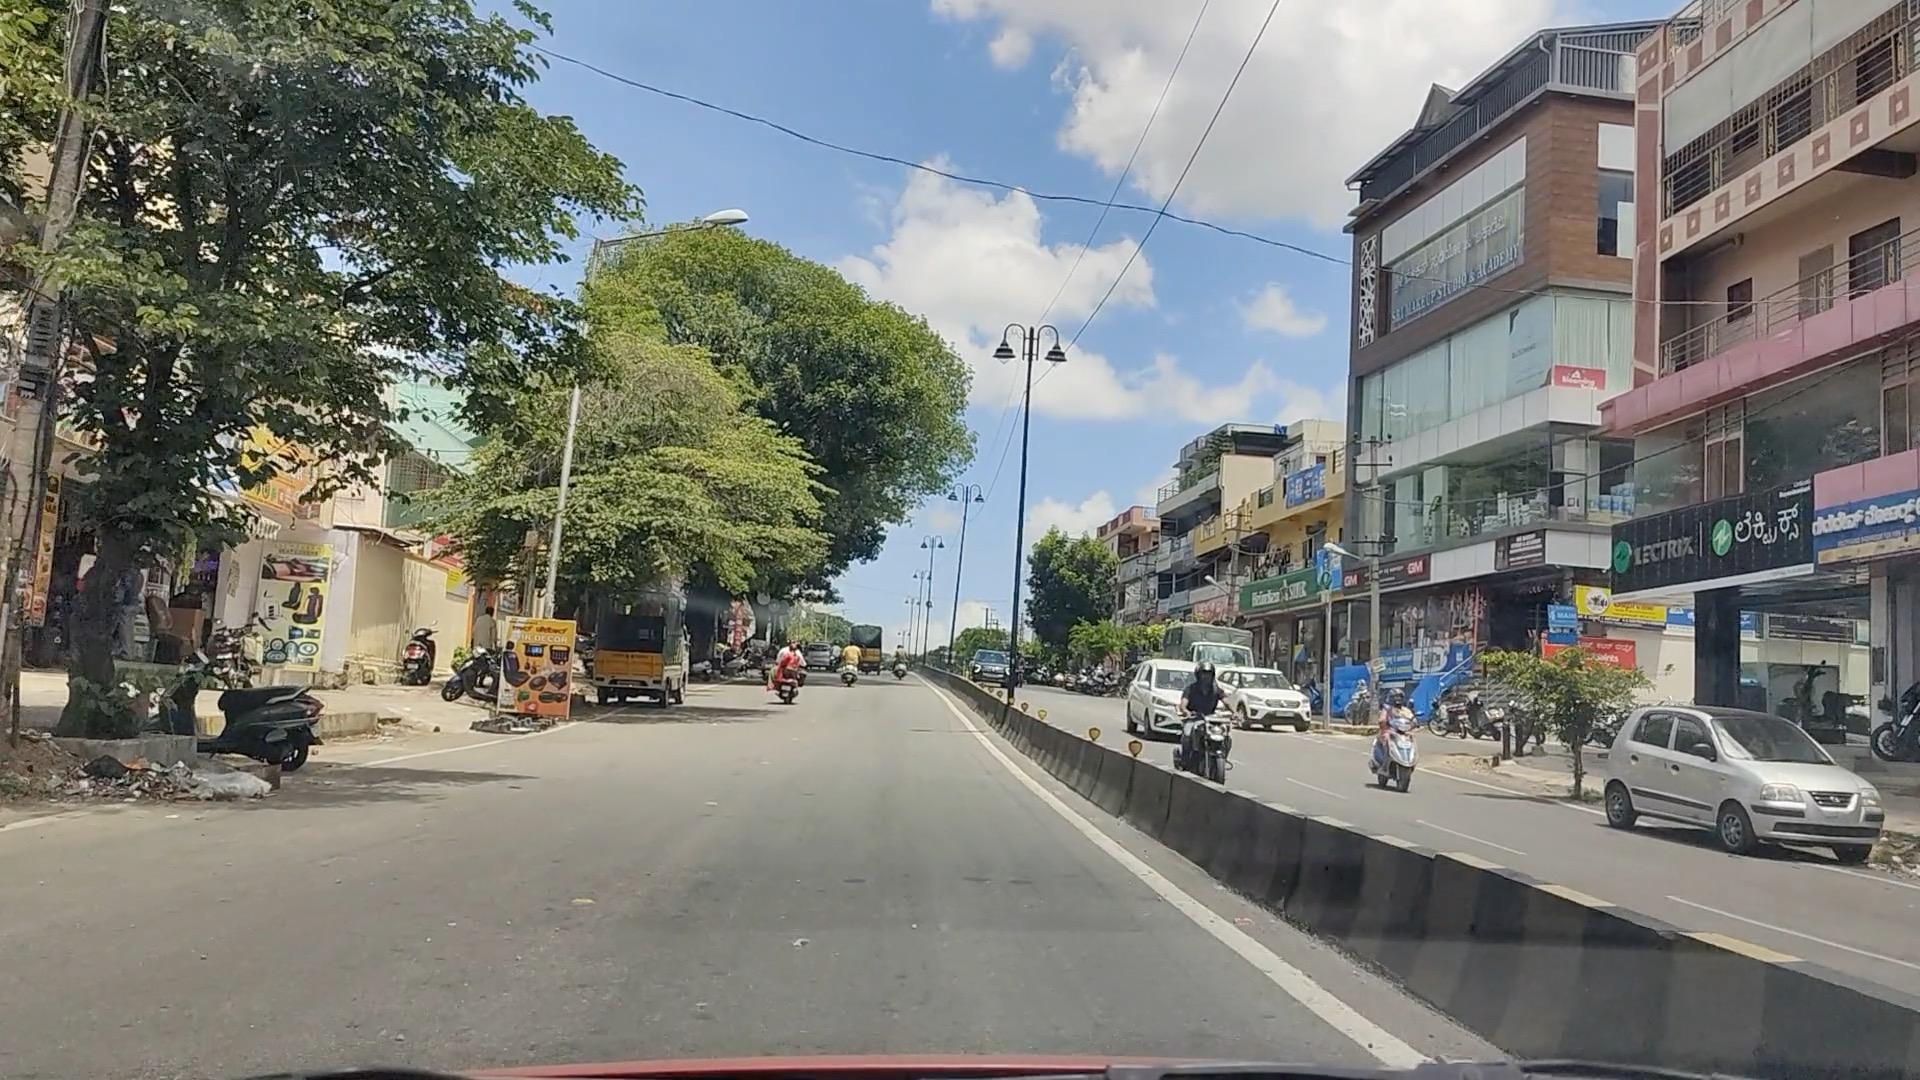HMV: (550, 556, 700, 716)
